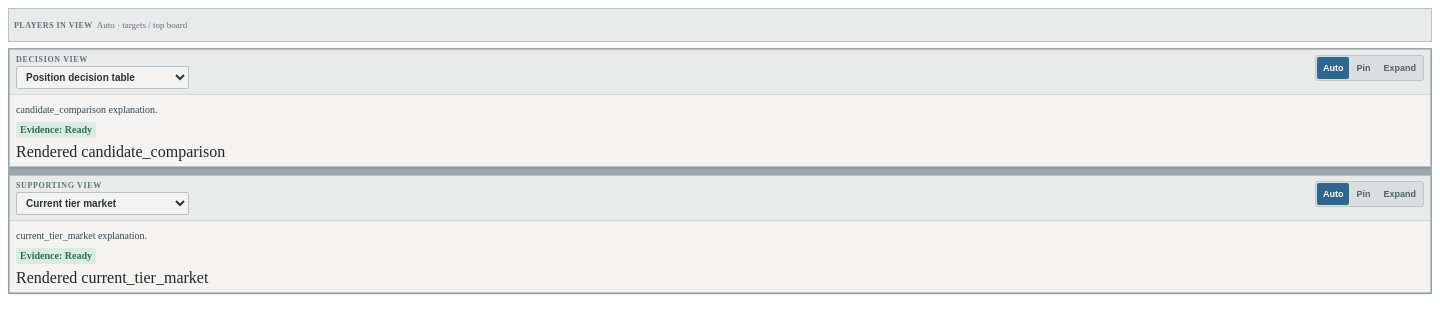
InsightDeck › restores a collapsed view when its visible slot is clicked
The image size is (1440, 312).
Click the button with aria-label "Expand Position decision table".
click(1400, 68)  # box 1378,57 -> 1422,79
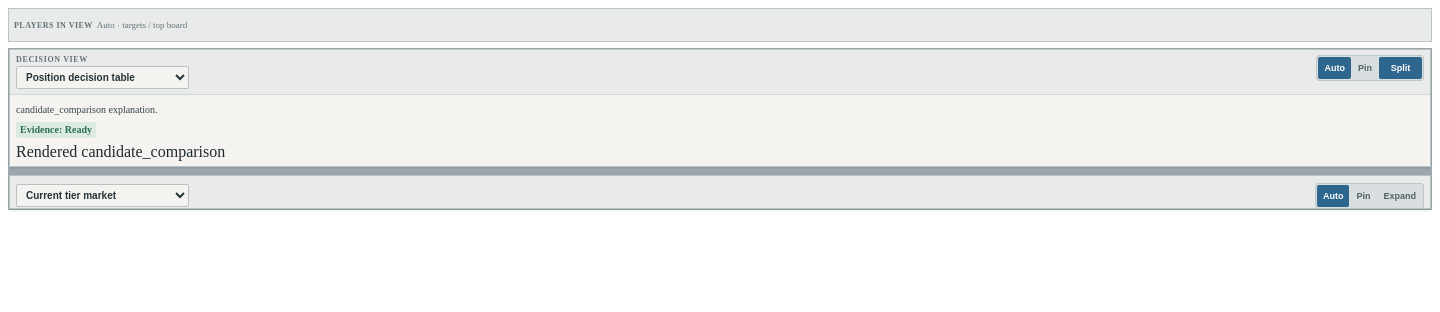
Now the text with test id "rendered-current_tier_market" is gone
Click the element named "Supporting view".
click(720, 192)  # box 9,175 -> 1431,209
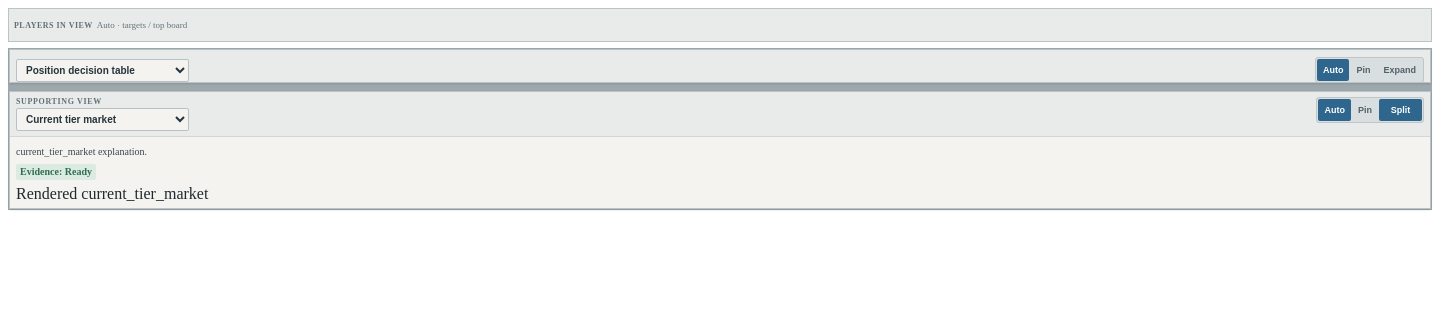
Now the text "Rendered current_tier_market" is shown, box 16,185 -> 208,202
